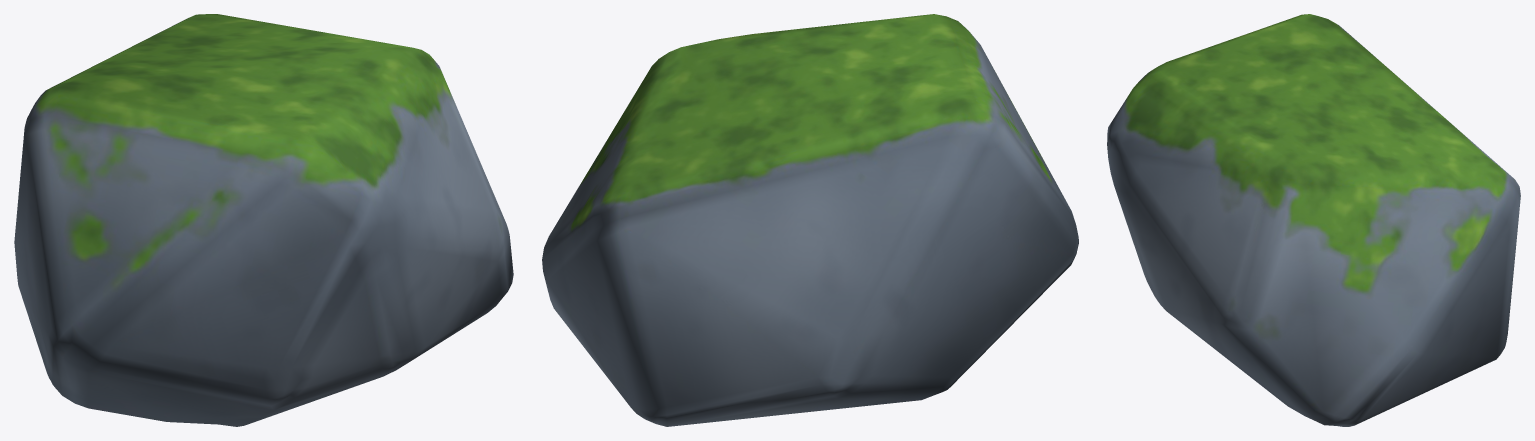
File: rock_e.glb
The picture shows the model from 3 angles, left to right: view 1: azimuth 30°, elevation 25°; view 2: azimuth 150°, elevation 25°; view 3: azimuth 270°, elevation 25°; orthographic projection. The views are drawn at different scales.
Parts seen in each view (by area): view 1: rock_e; view 2: rock_e; view 3: rock_e.
Part boxes in pixels (x1=…): rock_e: x1=14, y1=14, x2=513, y2=426; rock_e: x1=542, y1=14, x2=1078, y2=426; rock_e: x1=1107, y1=14, x2=1520, y2=426.
Size of the model in its own units: 2.36 by 1.54 by 2.11.
1 material, 1 textured.
